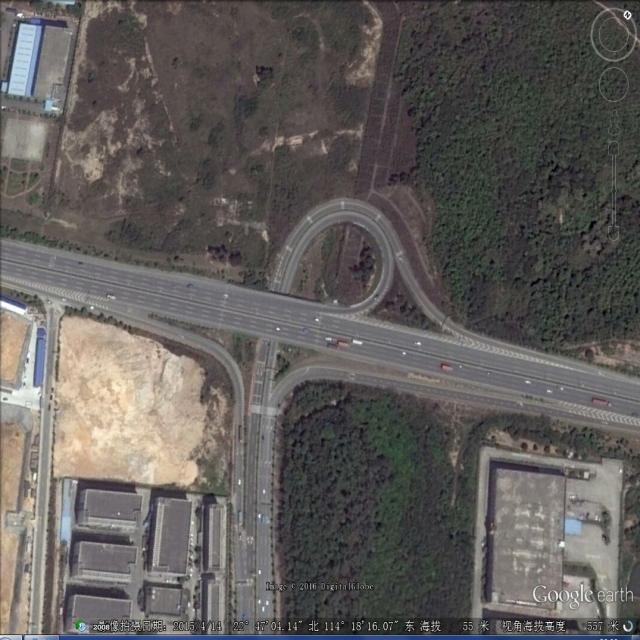overpass: (140, 191, 470, 467)
